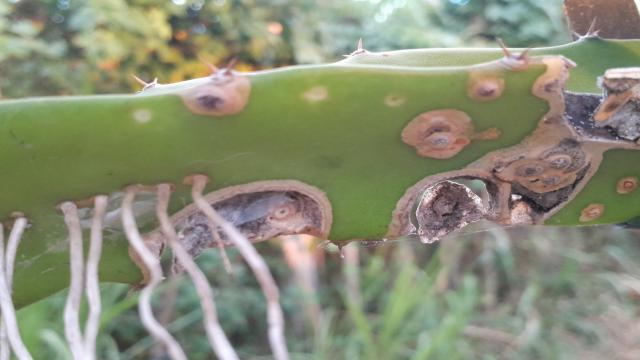stemcanker: (400, 106, 479, 161), (179, 70, 252, 120), (467, 71, 507, 107), (614, 173, 640, 199), (577, 202, 609, 223)
